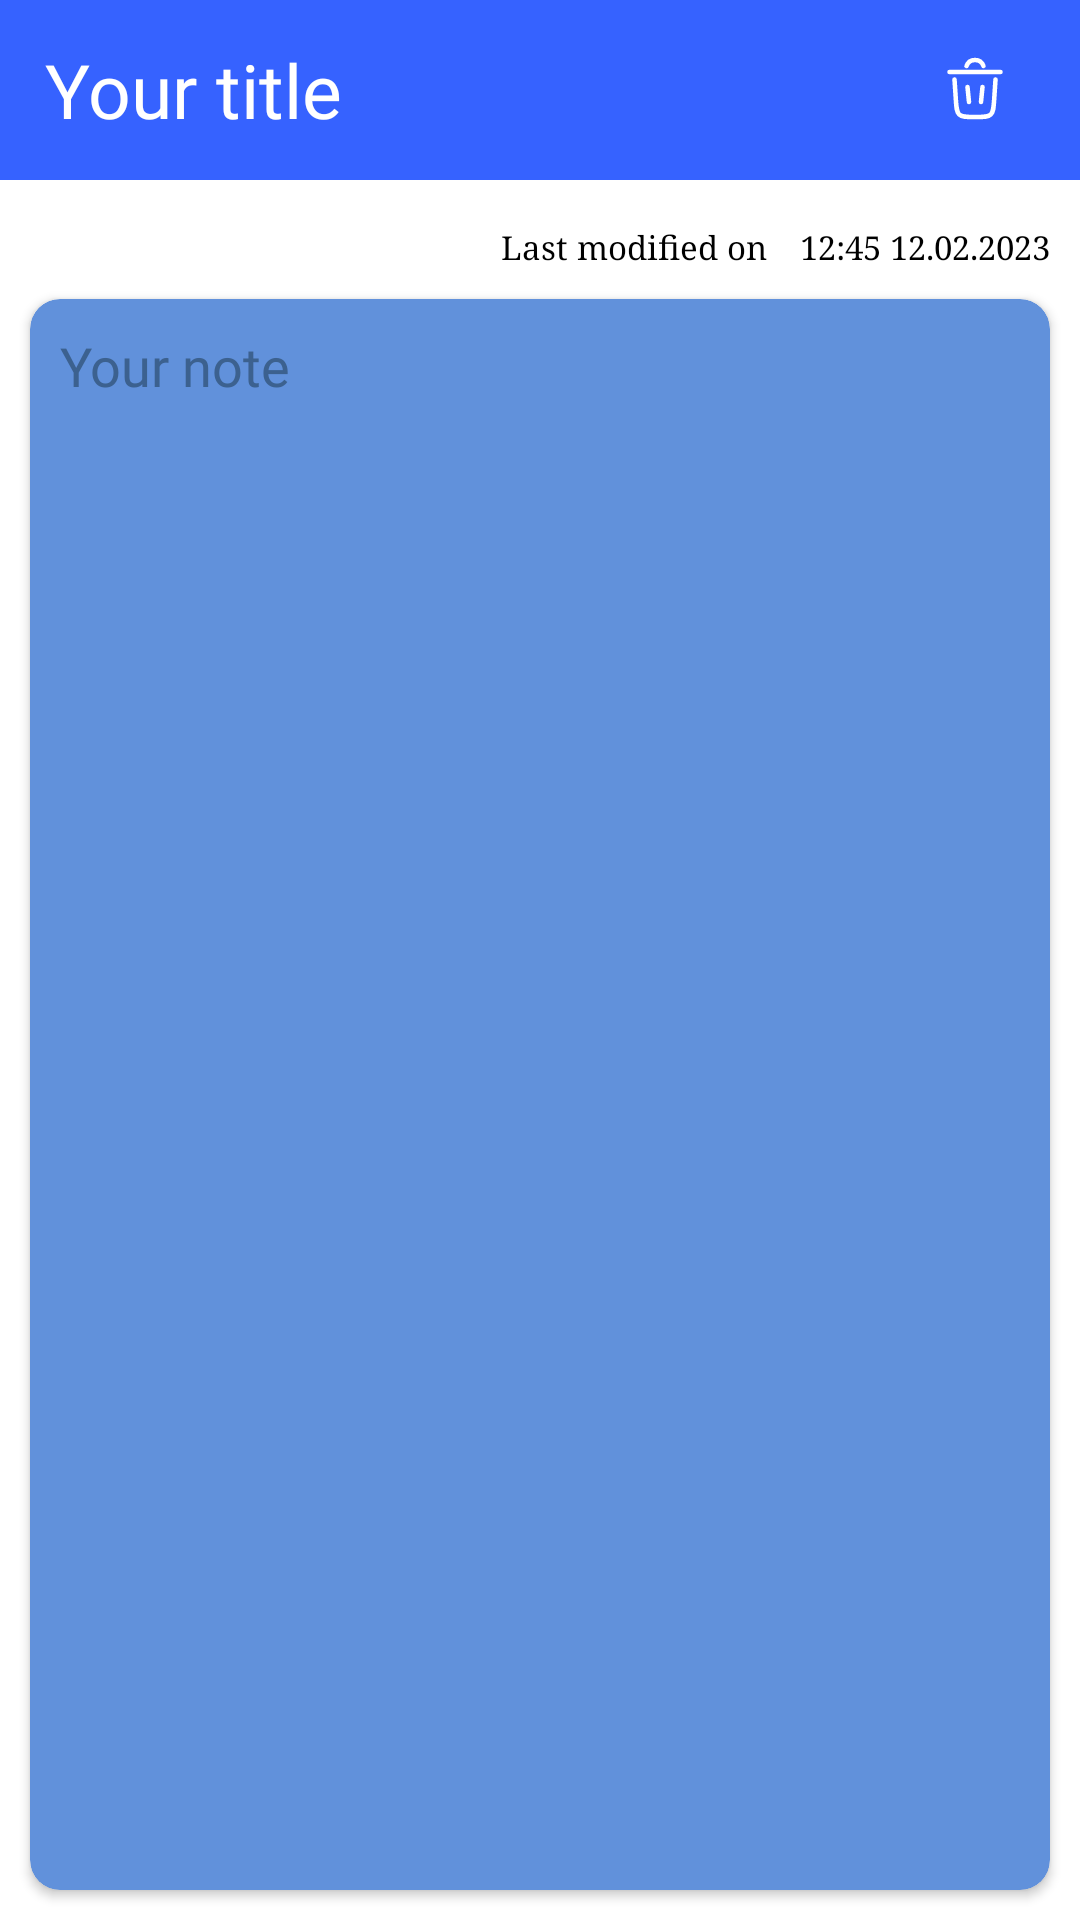

Point at icon controls on the screen. Image size 1080 x 1920, points as [x,y].
delete: [975,88]
